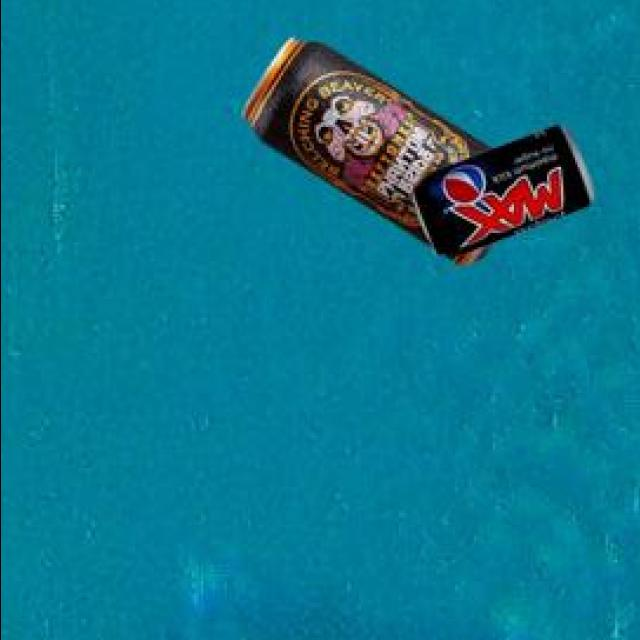logam: (239, 41, 488, 269), (408, 131, 589, 258)
